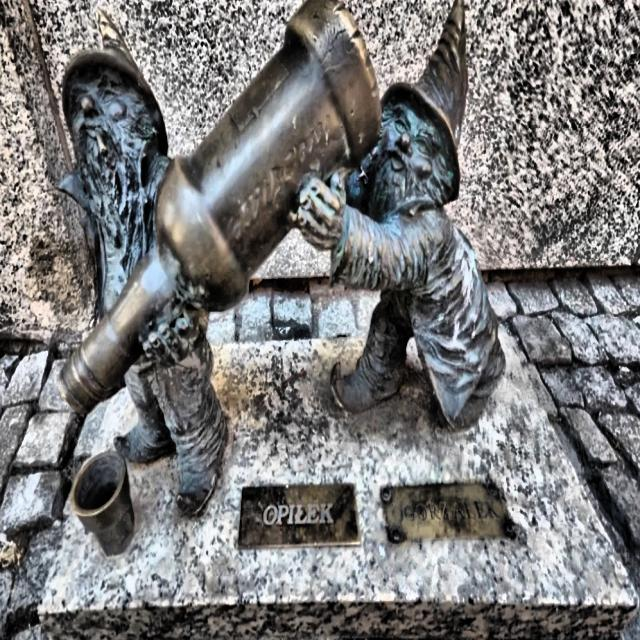Ogorzalek_i_Opilek: (60, 0, 505, 517)
